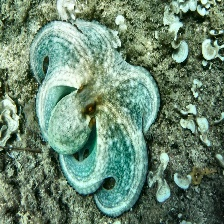octopus: (25, 14, 163, 220), (114, 0, 224, 219)
